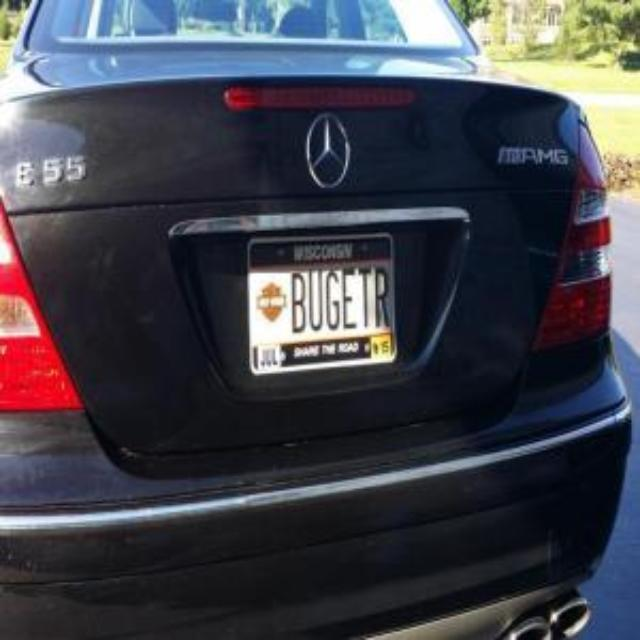License Plate: (254, 244, 396, 364)
